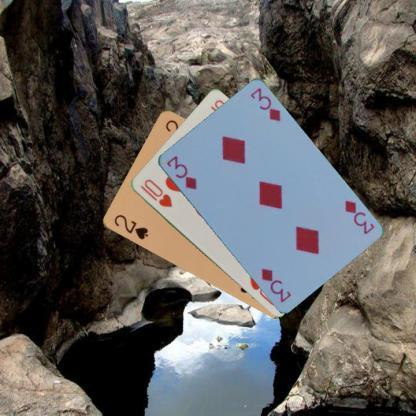10h: (138, 176, 174, 209)
2s: (111, 212, 150, 242)
3d: (342, 196, 376, 236), (164, 152, 198, 191)
